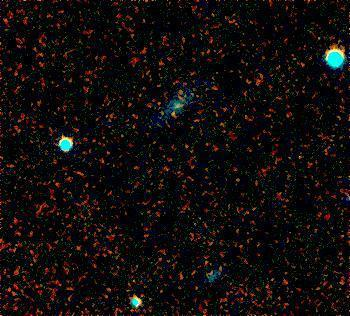star: (157, 99, 187, 129)
